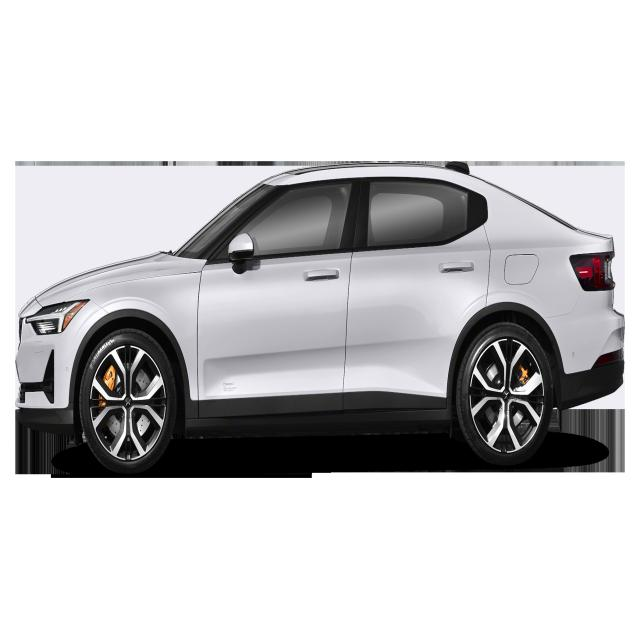car: (5, 139, 629, 529)
